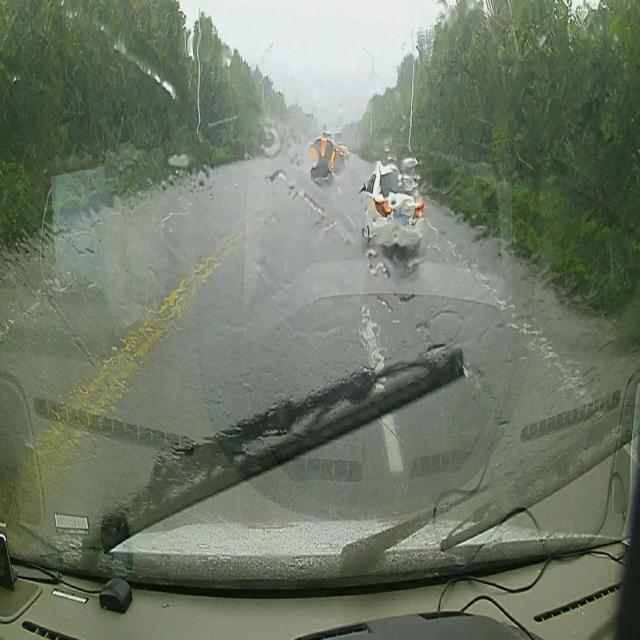car: (360, 160, 426, 252), (308, 134, 334, 182)
